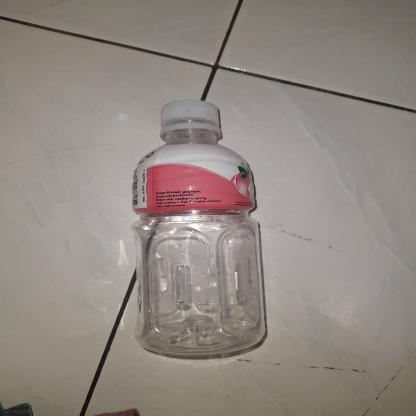plastic: (130, 98, 274, 365)
